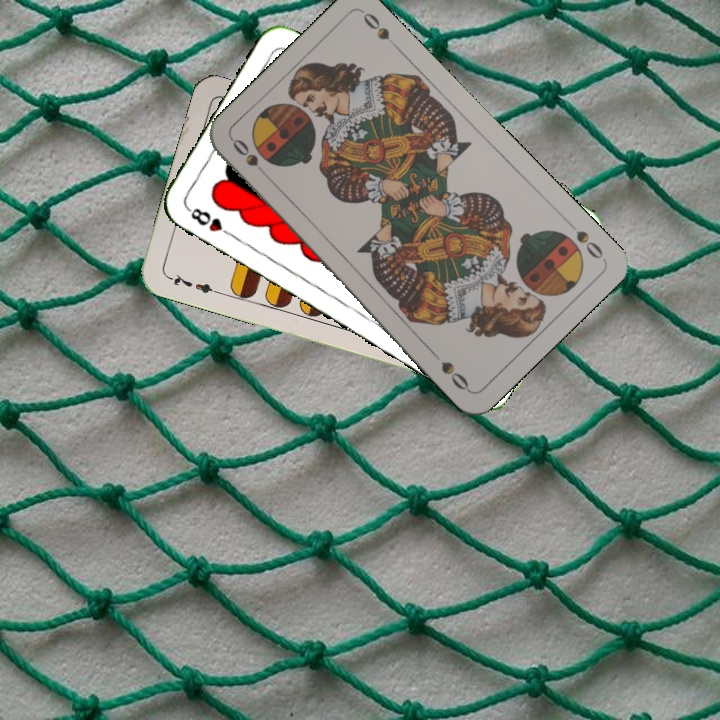E7: (163, 269, 221, 297)
H8: (183, 203, 237, 240)
SO: (228, 134, 273, 183), (562, 215, 606, 262)
